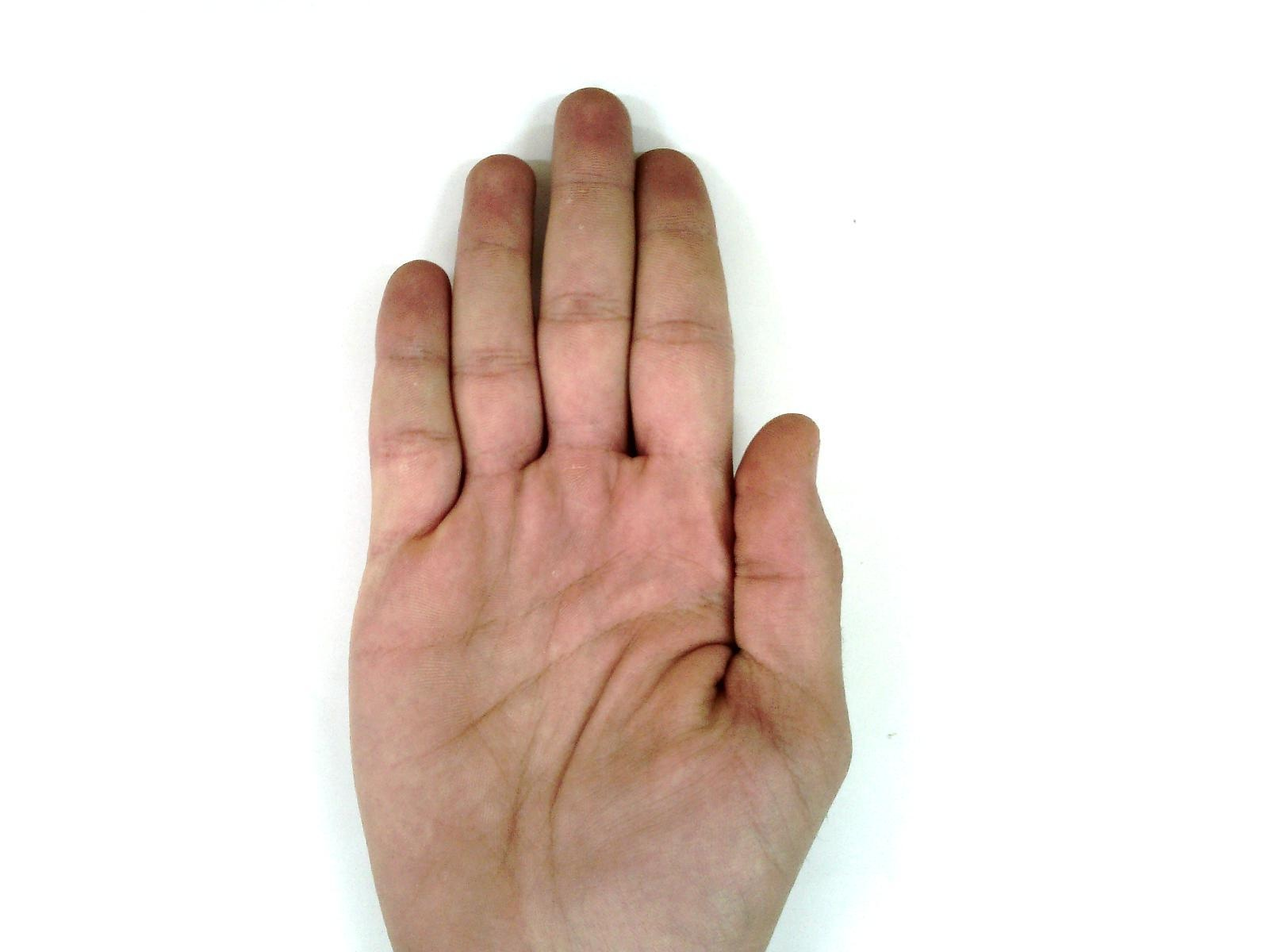open_palm: (343, 86, 857, 950)
